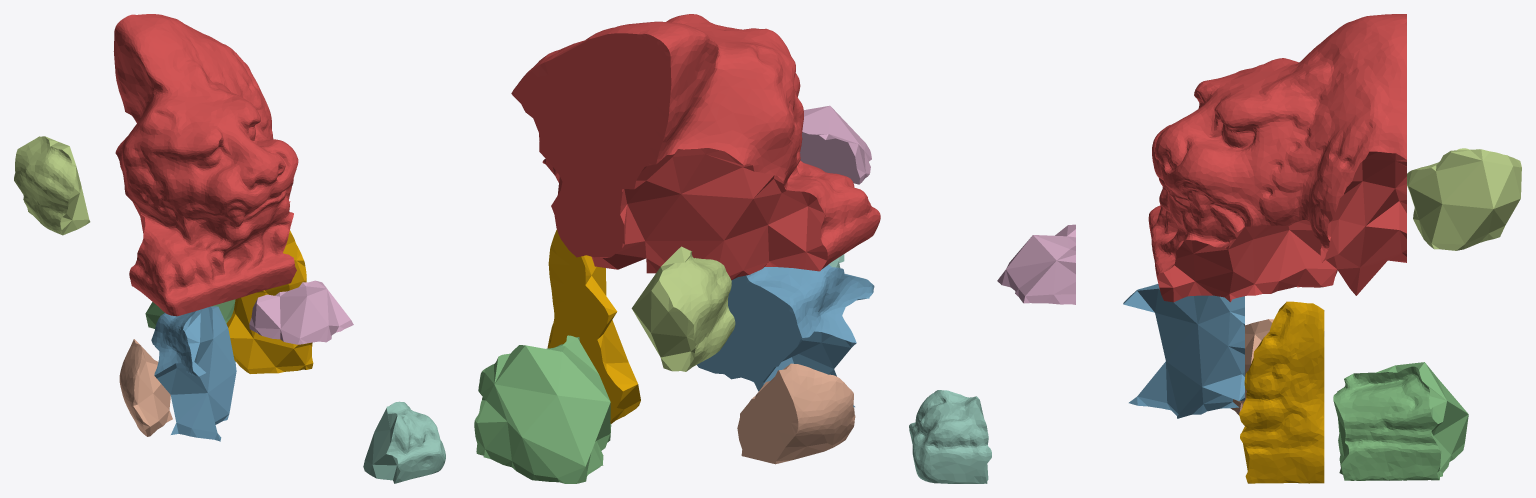
File: mode_13_8pcs_transformed.glb
The picture shows the model from 3 angles, left to right: view 1: azimuth 30°, elevation 25°; view 2: azimuth 150°, elevation 25°; view 3: azimuth 270°, elevation 25°; orthographic projection. The views are drawn at different scales.
Visible parts, largest first — view 1: piece_1.obj, piece_2.obj, piece_5.obj, piece_4.obj, piece_6.obj, piece_0.obj, piece_7.obj, piece_3.obj; view 2: piece_1.obj, piece_3.obj, piece_2.obj, piece_7.obj, piece_5.obj, piece_0.obj, piece_6.obj; view 3: piece_1.obj, piece_0.obj, piece_3.obj, piece_2.obj, piece_5.obj, piece_4.obj, piece_6.obj, piece_7.obj.
Part boxes in pixels (left/top/right/bottom): piece_1.obj: left=113, top=14, right=298, bottom=316; piece_2.obj: left=151, top=306, right=236, bottom=441; piece_5.obj: left=14, top=136, right=90, bottom=235; piece_4.obj: left=363, top=401, right=445, bottom=483; piece_6.obj: left=249, top=280, right=353, bottom=344; piece_0.obj: left=226, top=230, right=313, bottom=373; piece_7.obj: left=119, top=339, right=172, bottom=436; piece_3.obj: left=145, top=299, right=235, bottom=328; piece_1.obj: left=511, top=14, right=880, bottom=280; piece_3.obj: left=474, top=335, right=611, bottom=483; piece_2.obj: left=697, top=264, right=874, bottom=407; piece_7.obj: left=737, top=363, right=855, bottom=464; piece_5.obj: left=631, top=246, right=735, bottom=371; piece_0.obj: left=547, top=229, right=640, bottom=423; piece_6.obj: left=800, top=105, right=871, bottom=184; piece_1.obj: left=1148, top=14, right=1406, bottom=302; piece_0.obj: left=1239, top=301, right=1324, bottom=483; piece_3.obj: left=1333, top=362, right=1468, bottom=480; piece_2.obj: left=1123, top=284, right=1244, bottom=418; piece_5.obj: left=1407, top=148, right=1521, bottom=250; piece_4.obj: left=909, top=390, right=991, bottom=483; piece_6.obj: left=997, top=224, right=1075, bottom=304; piece_7.obj: left=1230, top=319, right=1273, bottom=415.
Size of the model in its own units: 0.966 by 1.66 by 2.22.
